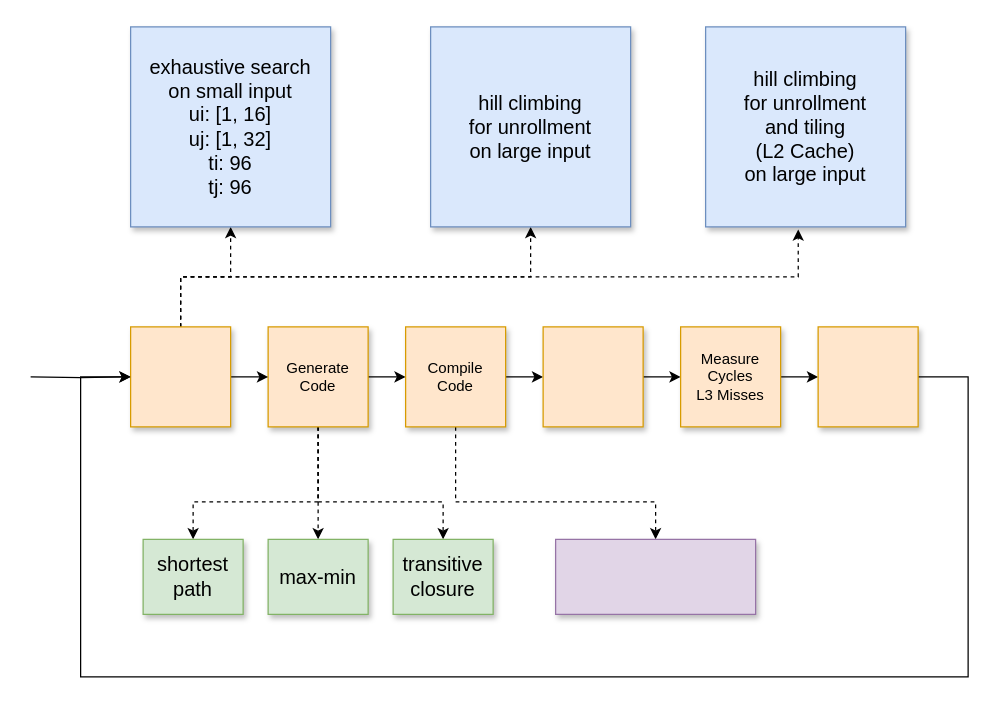
This 1000x709 diagram has some shape labels left out. Each missing label, with the centre of its shape:
"Compute Parameter Space" goes at (181,378).
"gcc -O3 -fno-tree-vectorize" goes at (656,578).
"Get Parameters with best Performance" goes at (869,378).
"Validate Code" goes at (594,378).
